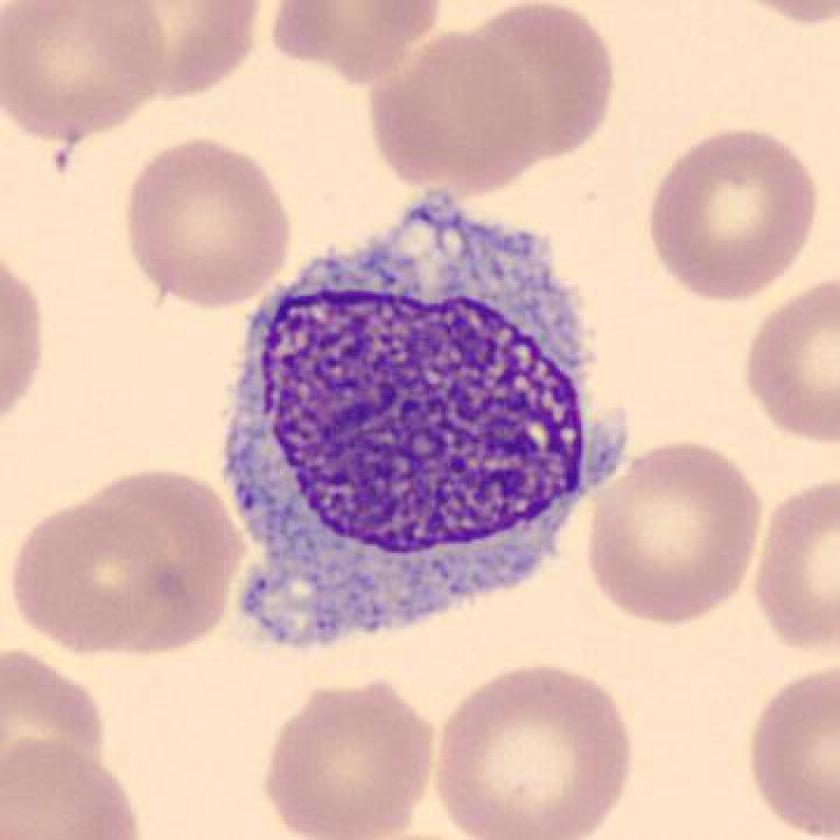monocyte: (195, 193, 643, 679)
